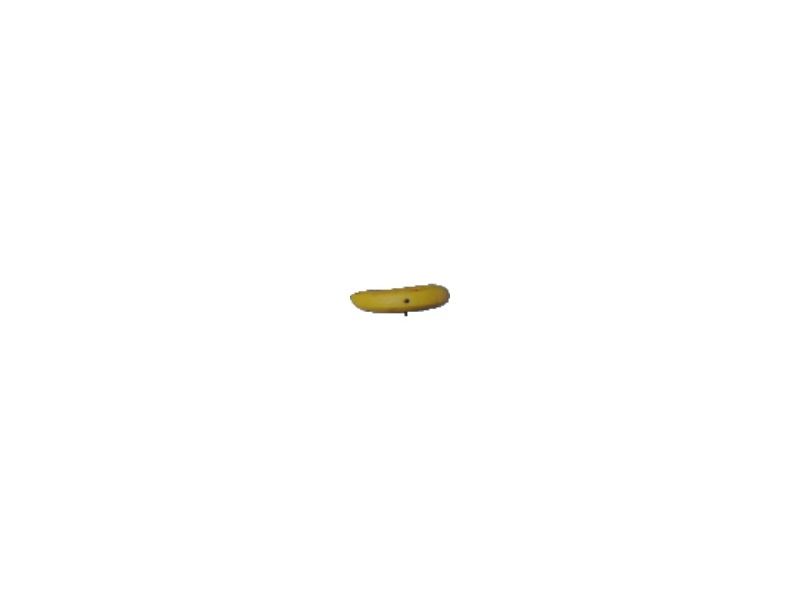banana: (347, 283, 453, 315)
